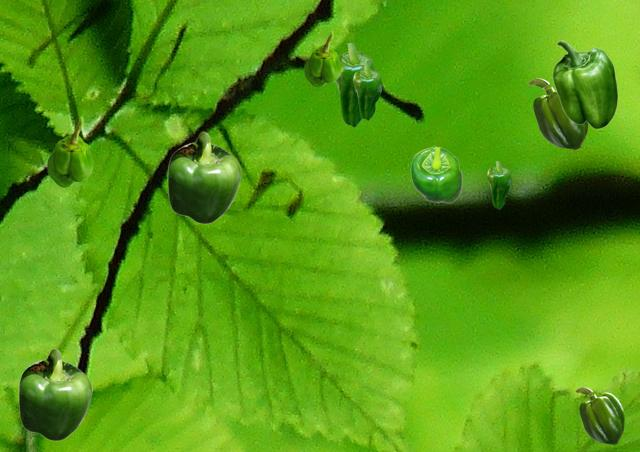bell_pepper: (167, 131, 240, 223), (18, 348, 91, 440), (552, 40, 617, 128), (528, 78, 587, 148), (335, 43, 374, 126), (47, 116, 92, 186), (410, 146, 461, 202), (575, 387, 623, 443), (304, 30, 340, 86), (353, 63, 381, 119), (487, 161, 510, 208)
